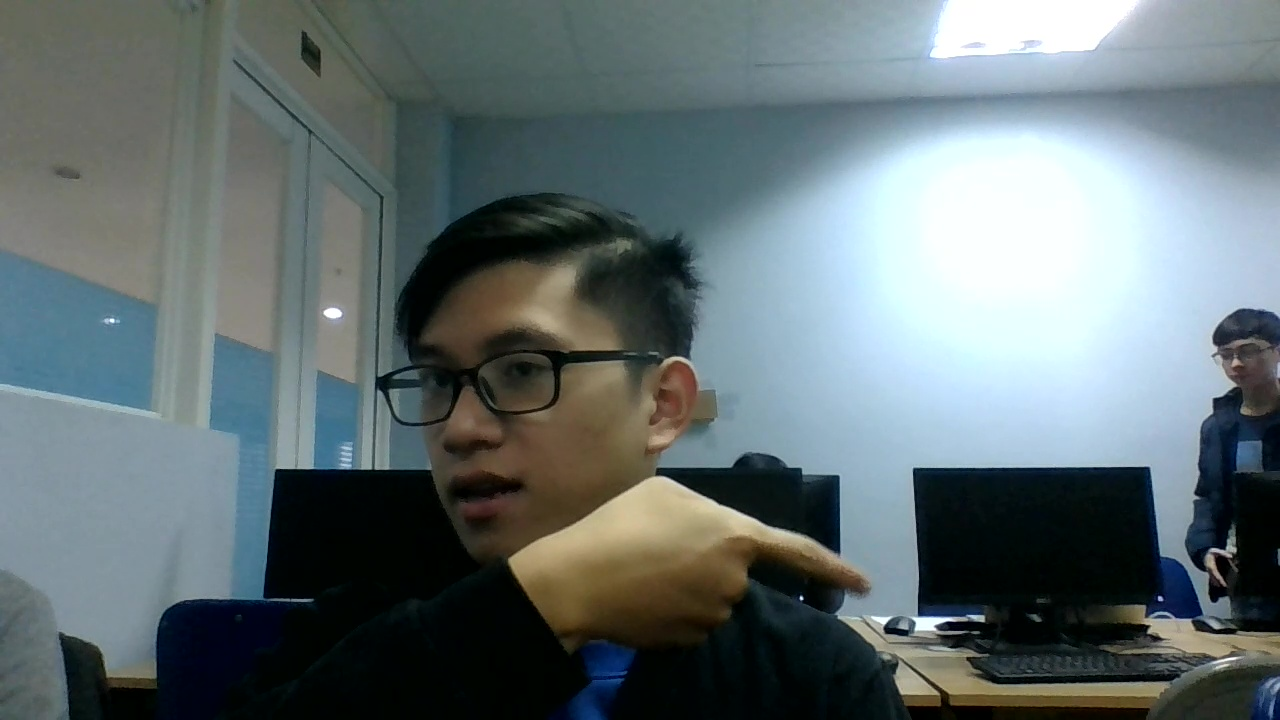left: (571, 464, 876, 662)
